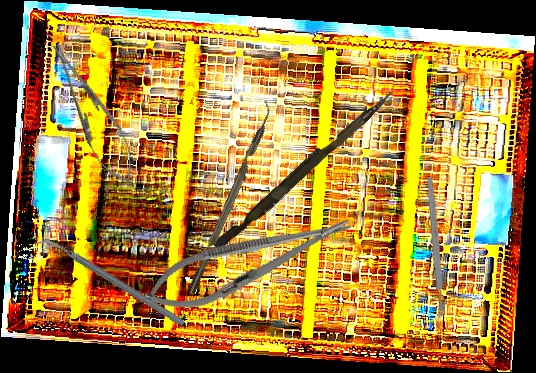Chopper: (33, 195, 187, 369), (178, 99, 278, 294)
Needle Holder: (137, 199, 360, 325), (40, 35, 146, 192)
Pusher: (212, 82, 396, 256)
Scalpel Handle: (425, 176, 446, 312)
